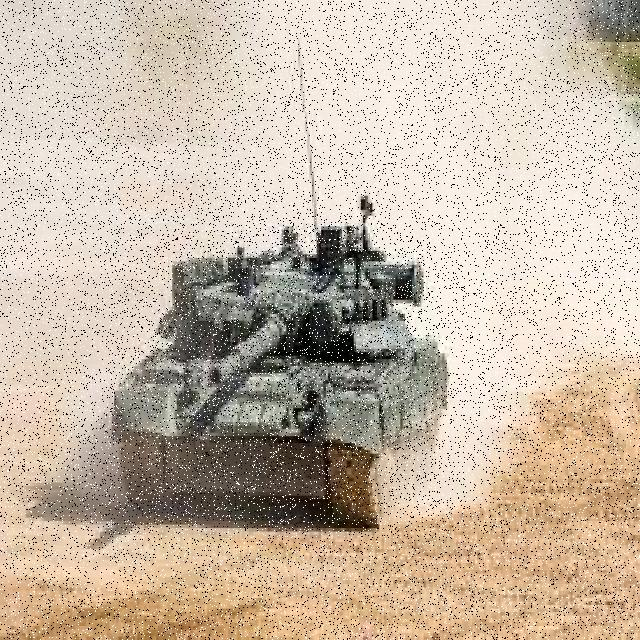MIL_MBT: (107, 213, 440, 510)
